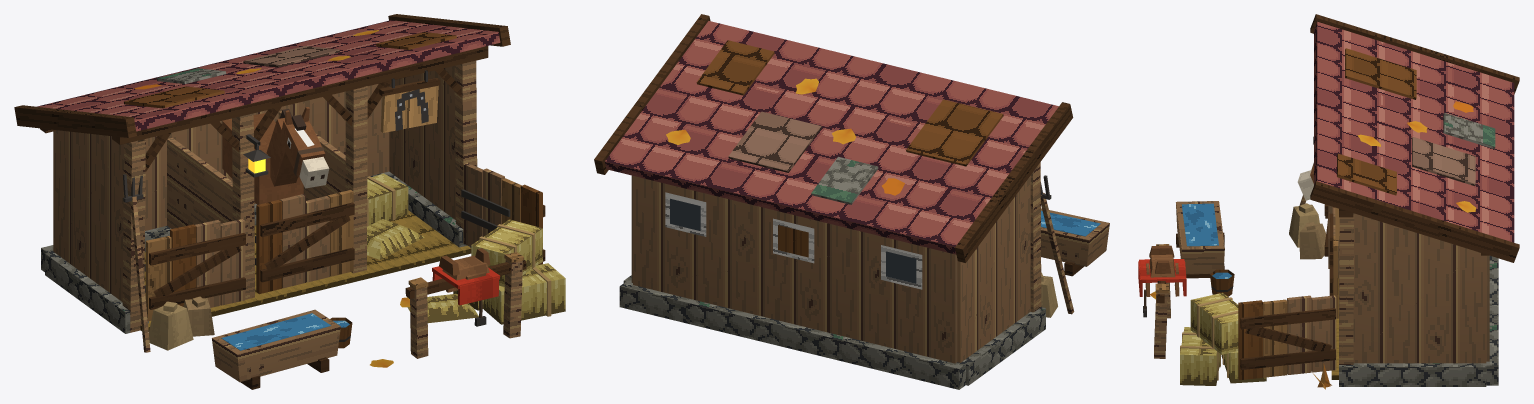
File: stable.glb
The picture shows the model from 3 angles, left to right: view 1: azimuth 30°, elevation 25°; view 2: azimuth 150°, elevation 25°; view 3: azimuth 270°, elevation 25°; orthographic projection. The views are drawn at different scales.
Visible parts, largest first — view 1: stable, sway_head; view 2: stable; view 3: stable, sway_head.
Boxes of the visible parts, bbox=[...] form: stable: bbox=[14, 14, 565, 389]; sway_head: bbox=[266, 107, 329, 188]; stable: bbox=[594, 14, 1109, 389]; stable: bbox=[1138, 14, 1519, 389]; sway_head: bbox=[1297, 165, 1313, 200].
Size of the model in its own units: 5.66 by 3.17 by 5.23.
Materials: 38 (24 with a texture image).
